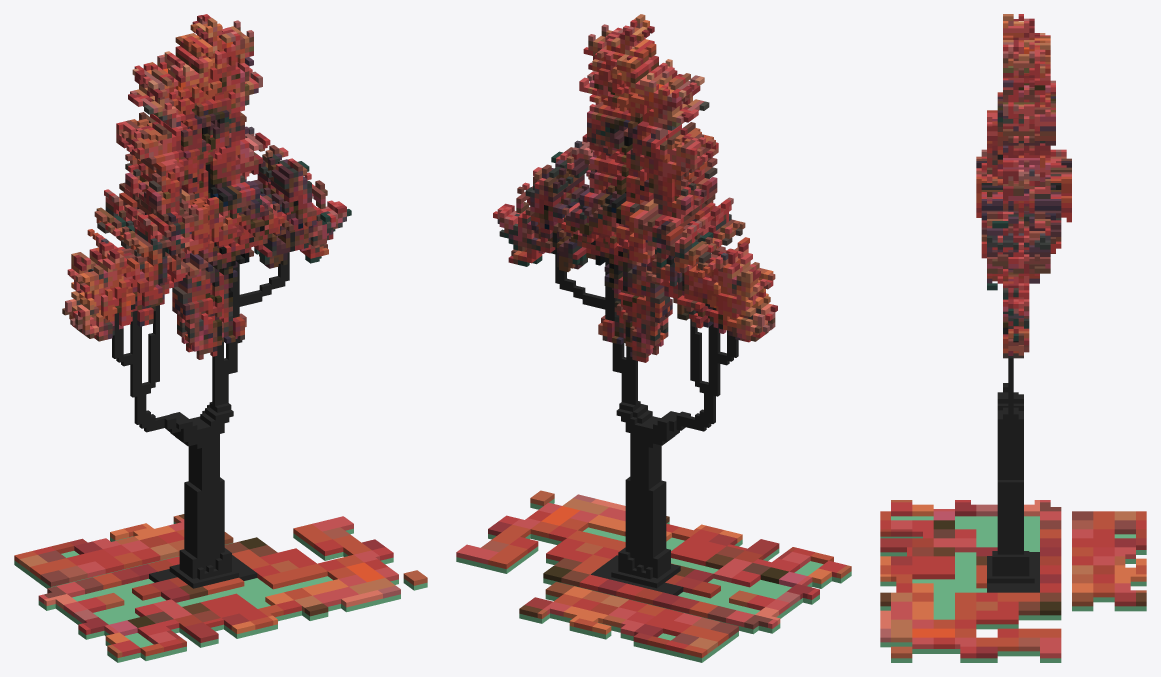
File: sakura.gltf
The picture shows the model from 3 angles, left to right: view 1: azimuth 30°, elevation 25°; view 2: azimuth 150°, elevation 25°; view 3: azimuth 270°, elevation 25°; orthographic projection.
Visible parts, largest first — view 1: Node; view 2: Node; view 3: Node.
Boxes of the visible parts, box(x1,y1,x2,y2) form: Node: box(14, 14, 427, 662); Node: box(456, 14, 851, 662); Node: box(880, 14, 1146, 662).
Size of the model in its own units: 6.8 by 11.8 by 5.
Materials: 1 (1 with a texture image).
